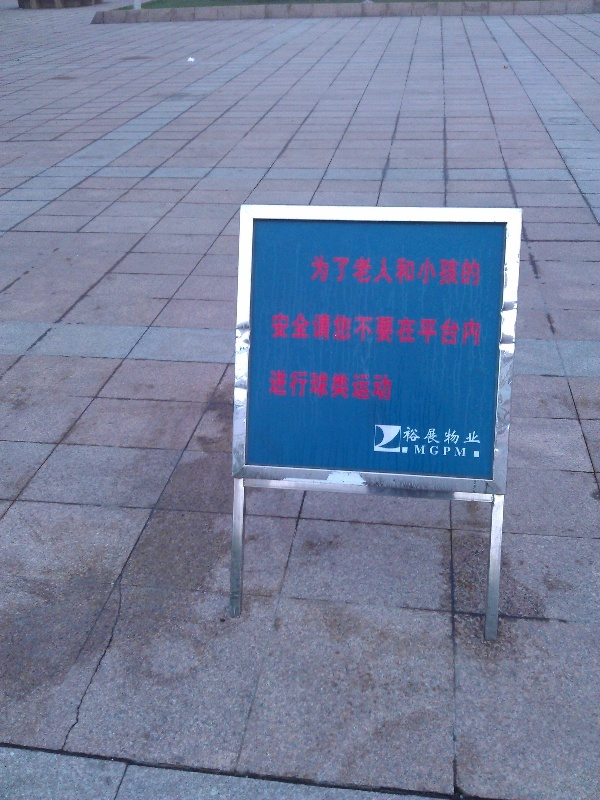text: (273, 310, 288, 349), (289, 310, 304, 349), (305, 310, 320, 349), (321, 310, 336, 349), (337, 310, 352, 349), (353, 310, 368, 349), (369, 310, 384, 349), (385, 310, 400, 349), (401, 310, 416, 349), (417, 310, 432, 349), (433, 310, 448, 349), (449, 310, 464, 349), (465, 310, 480, 349), (273, 368, 288, 403), (289, 368, 304, 403), (305, 368, 320, 403), (321, 368, 336, 403), (337, 368, 352, 403), (353, 368, 368, 403), (369, 368, 384, 403), (321, 255, 336, 288), (337, 255, 352, 288), (353, 255, 368, 288), (369, 255, 384, 288), (385, 255, 400, 288), (401, 255, 416, 288), (417, 255, 432, 288), (433, 255, 448, 288), (449, 255, 464, 288), (465, 255, 480, 288), (385, 368, 396, 403), (310, 255, 320, 288), (417, 425, 432, 447), (433, 425, 448, 447), (449, 425, 464, 447), (465, 425, 480, 447), (404, 425, 416, 447), (417, 443, 432, 458), (433, 443, 448, 458), (449, 443, 464, 458), (268, 368, 272, 403), (481, 310, 483, 349), (481, 255, 483, 288), (413, 443, 416, 458), (465, 443, 468, 458), (481, 425, 483, 447)
